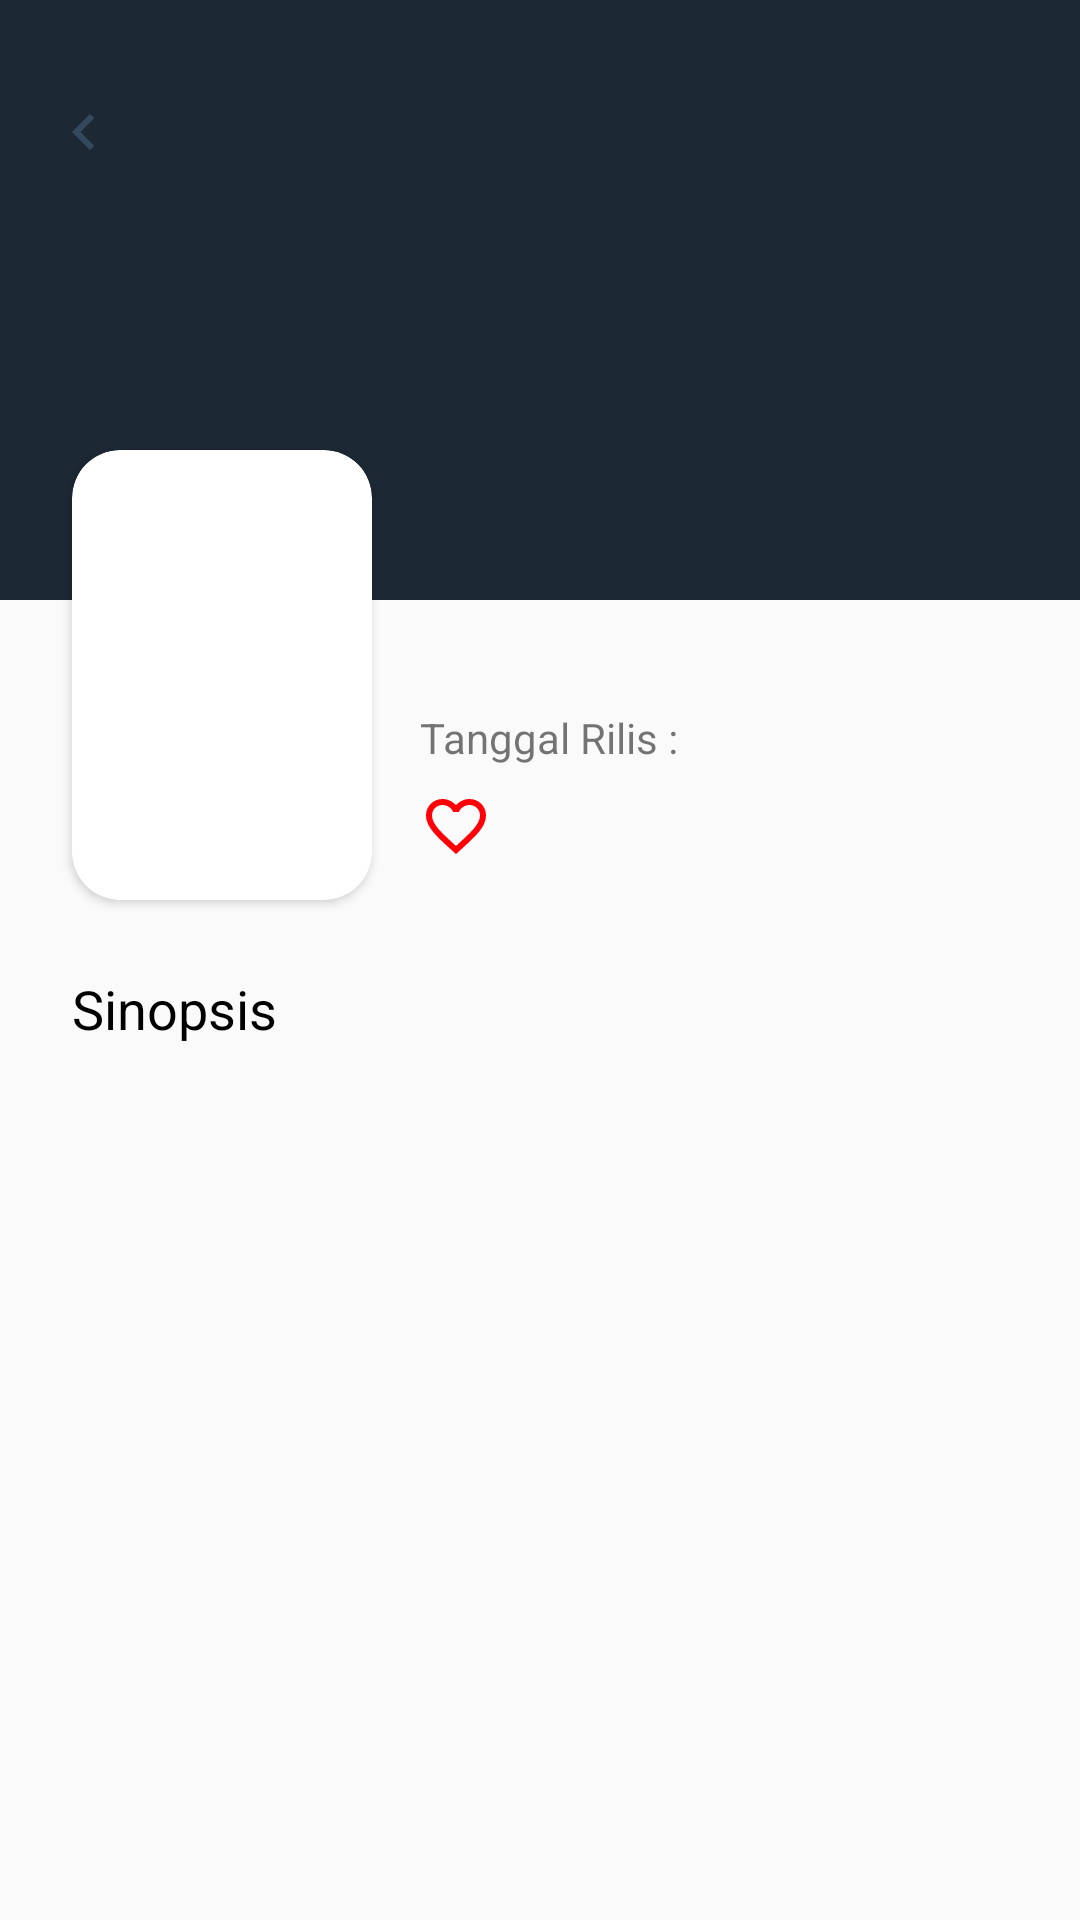

Named icons in this screenshot (1080px×1920px) and their bounding boxes, (x1, y1, x2, y2):
back: (73, 115, 94, 149)
favorite false: (426, 799, 486, 854)
